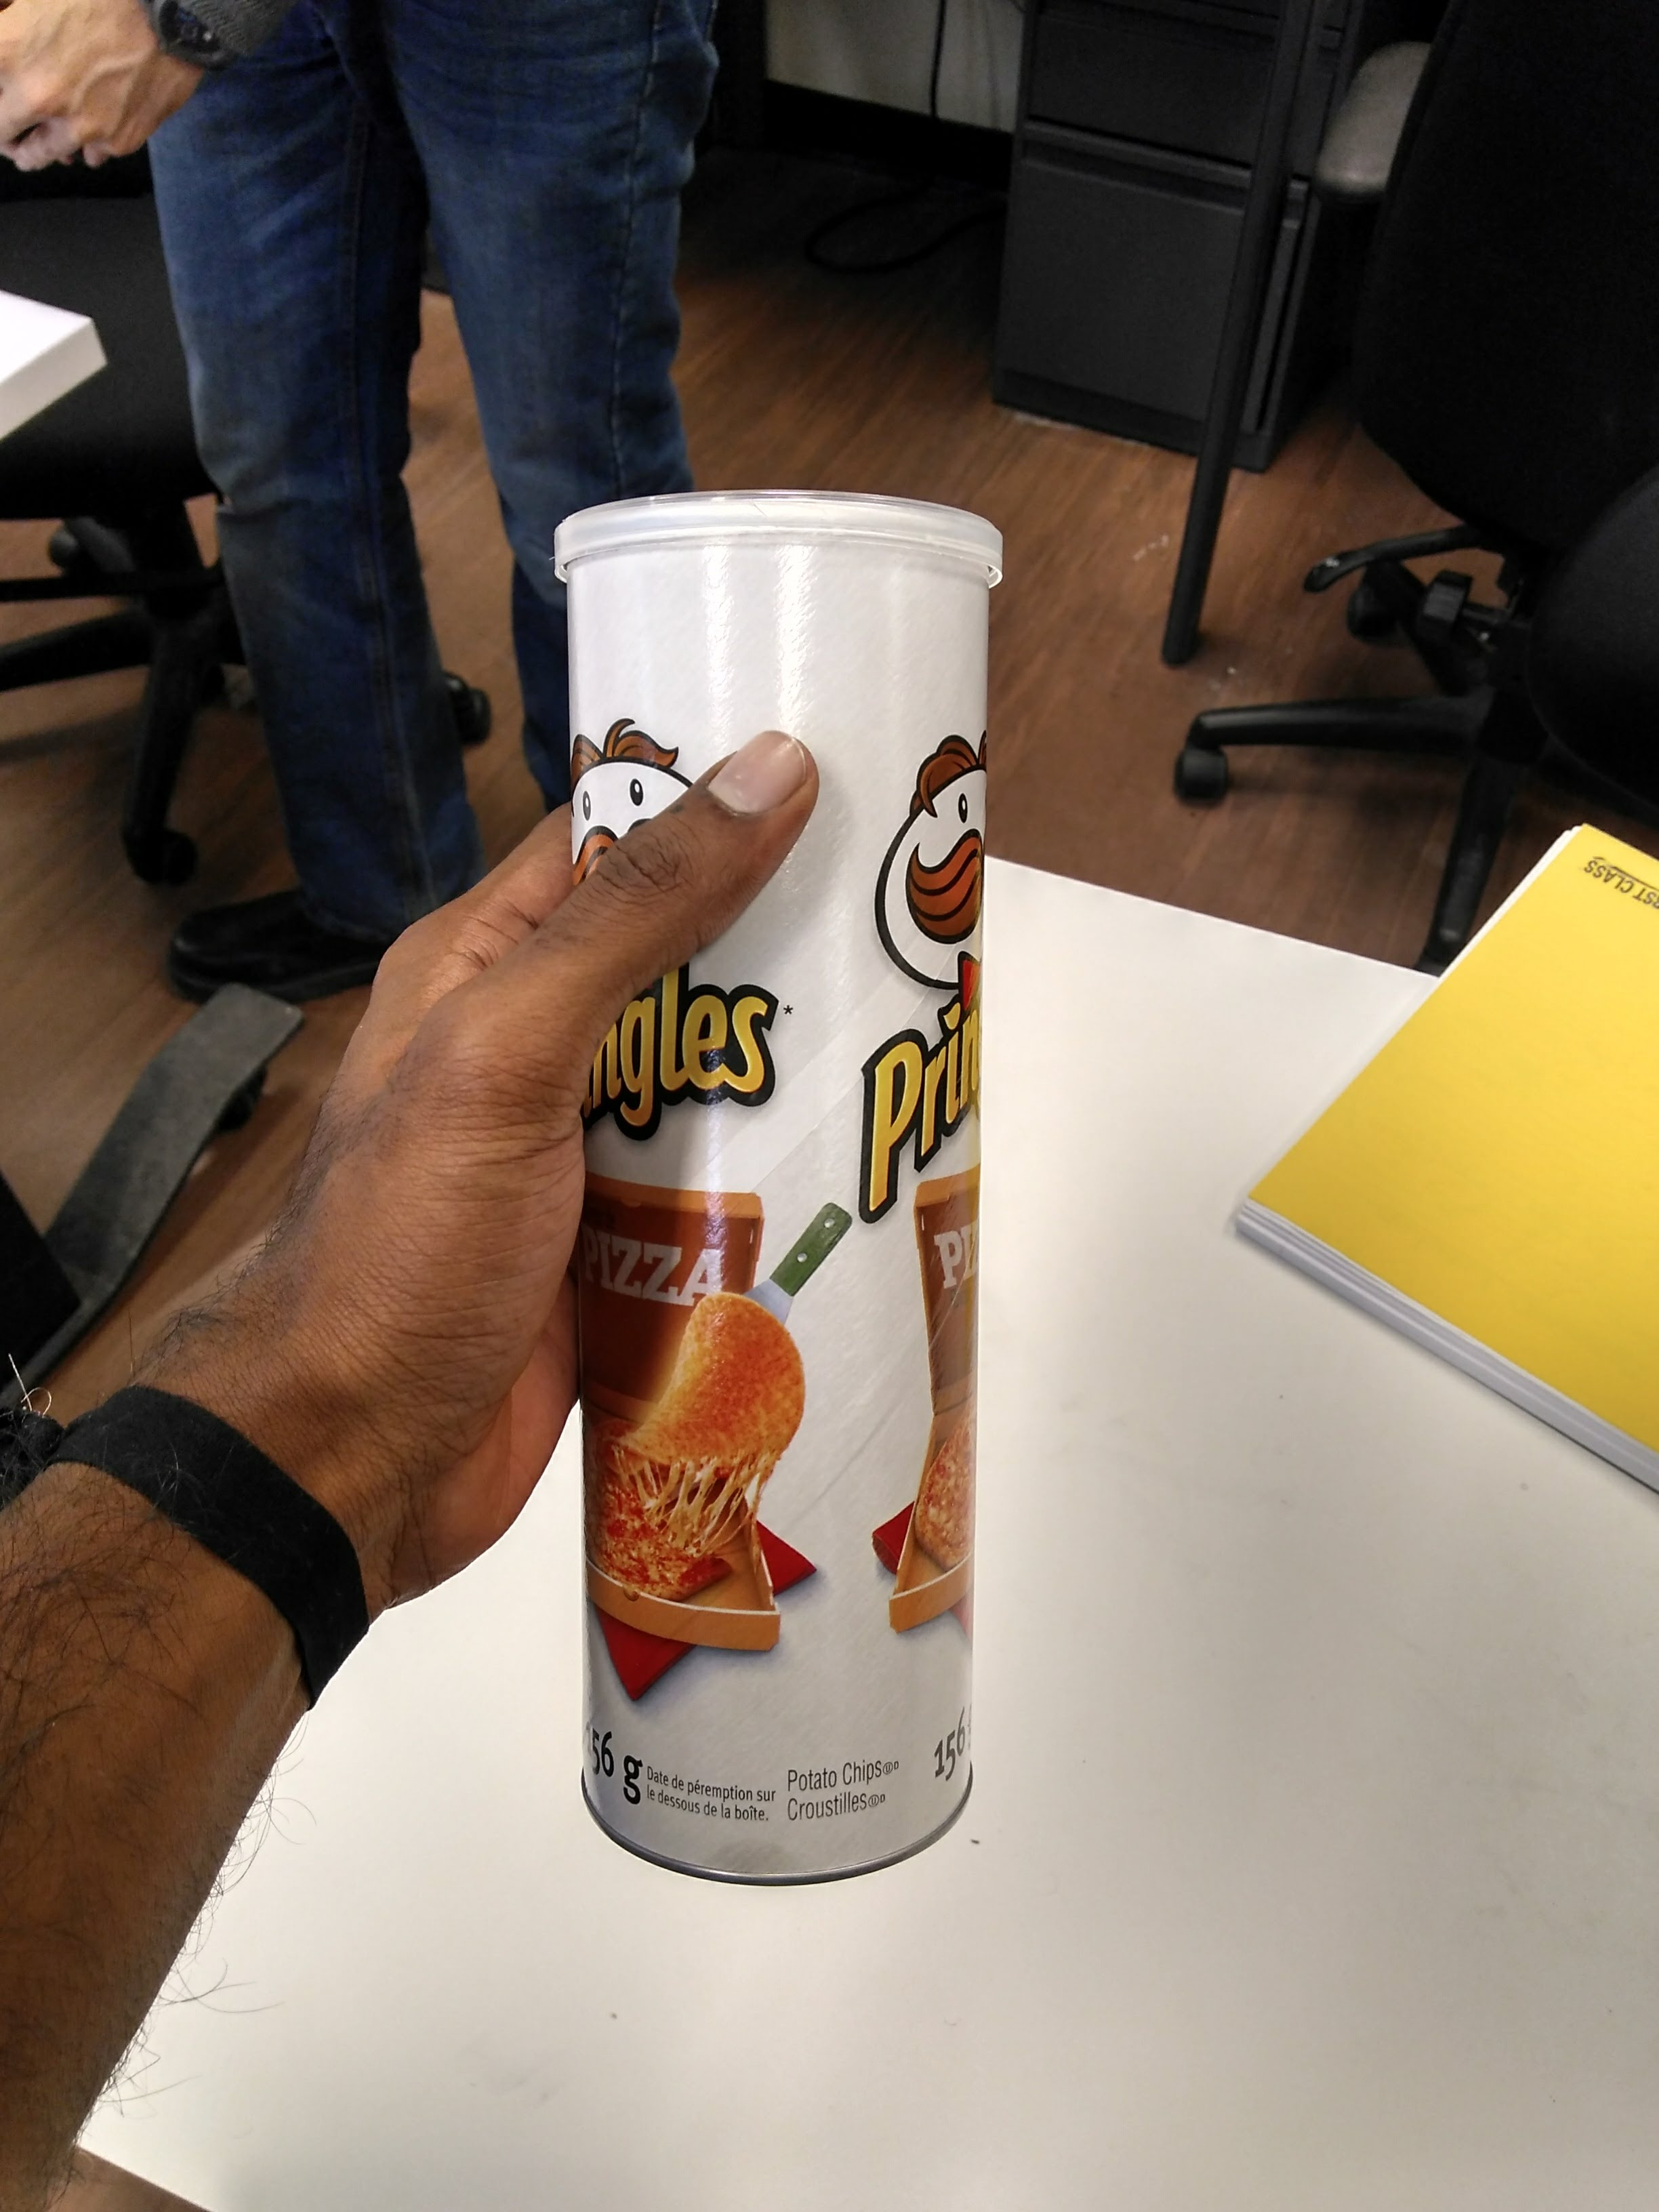pringles: (519, 482, 1018, 1909)
